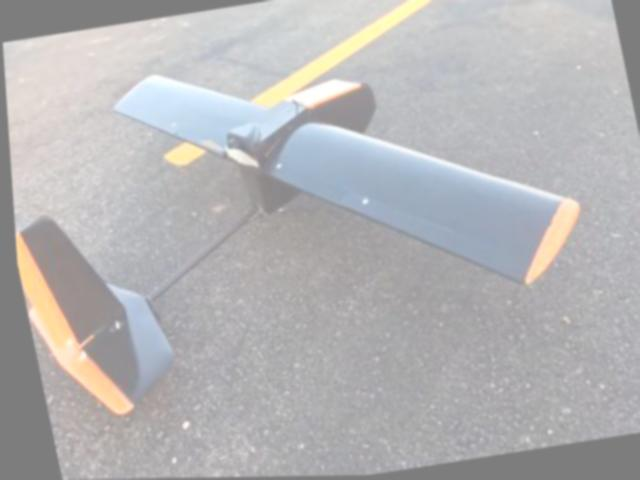uav: (0, 0, 622, 466)
